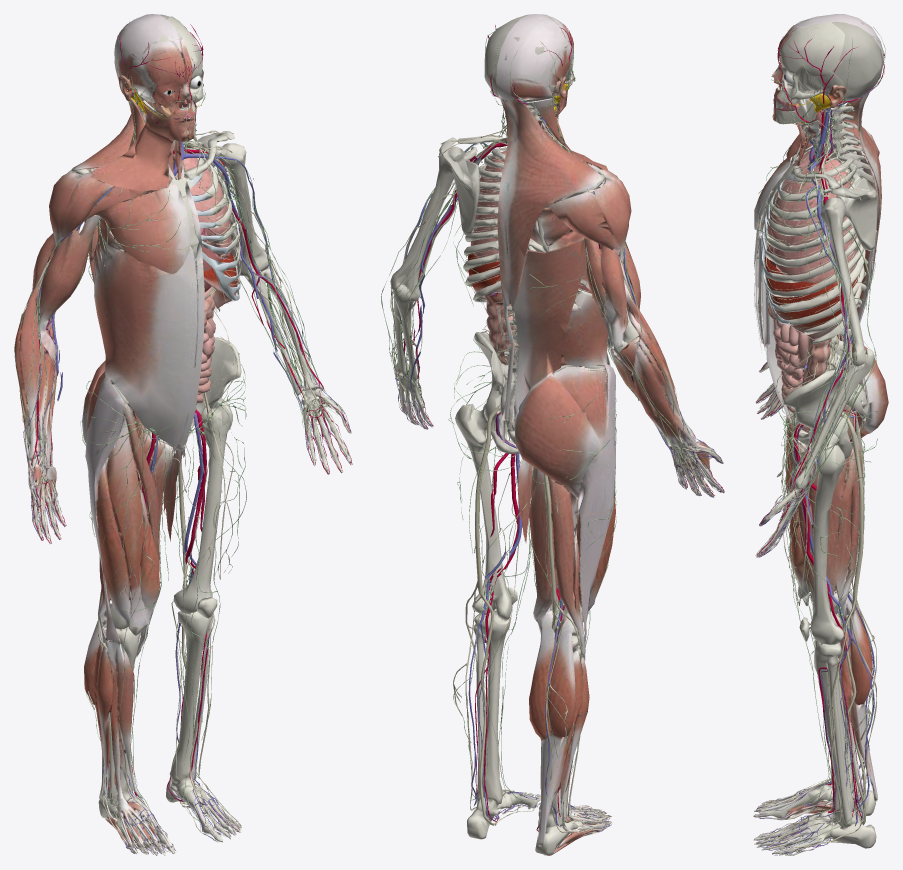
The model's file is male-anatomy.glb.
3 views of the same model, side by side, from view 1: azimuth 30°, elevation 25°; view 2: azimuth 150°, elevation 25°; view 3: azimuth 270°, elevation 25° (orthographic).
Visible parts, largest first — view 1: musclev3_0_28, SkeletonV2_1_55, lymphatic_system_3_20, nervous_system_2_34, Object_4, SkeletonV2_3_61, Object_37, digestiveSystem_1_11, Object_7, Object_41; view 2: musclev3_0_28, SkeletonV2_1_55, nervous_system_2_34, lymphatic_system_3_20, Object_4, SkeletonV2_3_61, digestiveSystem_1_11, Object_37; view 3: SkeletonV2_1_55, musclev3_0_28, nervous_system_2_34, lymphatic_system_3_20, Object_4, SkeletonV2_3_61, Object_37, digestiveSystem_1_11, Object_41, Object_7, Group53826_default_0.001_78.
Boxes of the visible parts, x1,y1,x2,y2 form: musclev3_0_28: (14, 14, 204, 854); SkeletonV2_1_55: (28, 14, 352, 855); lymphatic_system_3_20: (14, 16, 344, 836); nervous_system_2_34: (28, 130, 351, 854); Object_4: (23, 26, 352, 854); SkeletonV2_3_61: (50, 15, 256, 433); Object_37: (173, 98, 231, 260); digestiveSystem_1_11: (131, 92, 220, 411); Object_7: (44, 24, 287, 799); Object_41: (203, 252, 237, 308); musclev3_0_28: (496, 14, 721, 855); SkeletonV2_1_55: (390, 14, 724, 855); nervous_system_2_34: (390, 108, 723, 835); lymphatic_system_3_20: (381, 30, 715, 822); Object_4: (390, 24, 724, 834); SkeletonV2_3_61: (399, 20, 614, 435); digestiveSystem_1_11: (484, 84, 590, 364); Object_37: (470, 122, 539, 258); SkeletonV2_1_55: (753, 19, 882, 854); musclev3_0_28: (754, 14, 888, 820); nervous_system_2_34: (755, 106, 876, 855); lymphatic_system_3_20: (755, 26, 885, 844); Object_4: (755, 25, 884, 855); SkeletonV2_3_61: (762, 22, 881, 448); Object_37: (767, 60, 857, 283); digestiveSystem_1_11: (767, 93, 853, 438); Object_41: (764, 251, 857, 339); Object_7: (819, 46, 837, 841); Group53826_default_0.001_78: (827, 85, 846, 107).
Bounding box in the file's own units: 0.7326 × 1.79 × 0.2693.
14 materials, 13 textured.
